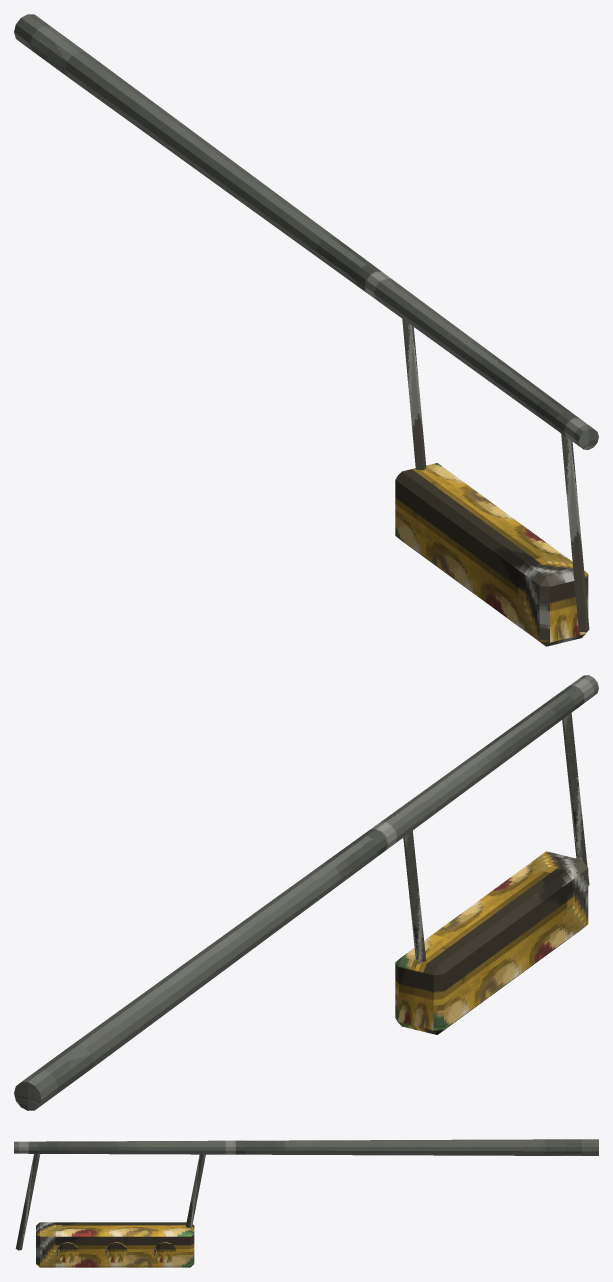
The model's file is pz_street_pole_12.obj.
3 views of the same model, one above another, from view 1: azimuth 30°, elevation 25°; view 2: azimuth 150°, elevation 25°; view 3: azimuth 270°, elevation 25° (orthographic). The views are drawn at different scales.
Visible parts, largest first — view 1: pz_street_pole_12_|_tapered_native_street_pole, pz_street_pole_12_|_native_traffic_signal_housing, pz_street_pole_12_|_traffic_light_support_arm.001, pz_street_pole_12_|_traffic_light_support_arm; view 2: pz_street_pole_12_|_tapered_native_street_pole, pz_street_pole_12_|_native_traffic_signal_housing, pz_street_pole_12_|_traffic_light_support_arm.001, pz_street_pole_12_|_traffic_light_support_arm; view 3: pz_street_pole_12_|_tapered_native_street_pole, pz_street_pole_12_|_native_traffic_signal_housing, pz_street_pole_12_|_traffic_light_support_arm.001, pz_street_pole_12_|_traffic_light_support_arm, pz_street_pole_12_|_signal_light_lens.002, pz_street_pole_12_|_signal_light_lens, pz_street_pole_12_|_signal_light_lens.001.
Part boxes in pixels (x1=…): pz_street_pole_12_|_tapered_native_street_pole: x1=14, y1=14, x2=598, y2=449; pz_street_pole_12_|_native_traffic_signal_housing: x1=395, y1=463, x2=588, y2=646; pz_street_pole_12_|_traffic_light_support_arm.001: x1=561, y1=433, x2=589, y2=631; pz_street_pole_12_|_traffic_light_support_arm: x1=402, y1=319, x2=426, y2=470; pz_street_pole_12_|_tapered_native_street_pole: x1=14, y1=675, x2=598, y2=1110; pz_street_pole_12_|_native_traffic_signal_housing: x1=395, y1=851, x2=588, y2=1034; pz_street_pole_12_|_traffic_light_support_arm.001: x1=562, y1=713, x2=589, y2=885; pz_street_pole_12_|_traffic_light_support_arm: x1=403, y1=830, x2=426, y2=964; pz_street_pole_12_|_tapered_native_street_pole: x1=14, y1=1139, x2=598, y2=1155; pz_street_pole_12_|_native_traffic_signal_housing: x1=36, y1=1222, x2=194, y2=1267; pz_street_pole_12_|_traffic_light_support_arm.001: x1=15, y1=1154, x2=40, y2=1250; pz_street_pole_12_|_traffic_light_support_arm: x1=186, y1=1154, x2=205, y2=1227; pz_street_pole_12_|_signal_light_lens.002: x1=153, y1=1241, x2=176, y2=1263; pz_street_pole_12_|_signal_light_lens: x1=56, y1=1241, x2=78, y2=1263; pz_street_pole_12_|_signal_light_lens.001: x1=105, y1=1241, x2=127, y2=1263.
Size of the model in its own units: 0.139 by 0.556 by 2.4.
5 materials, 5 textured.
